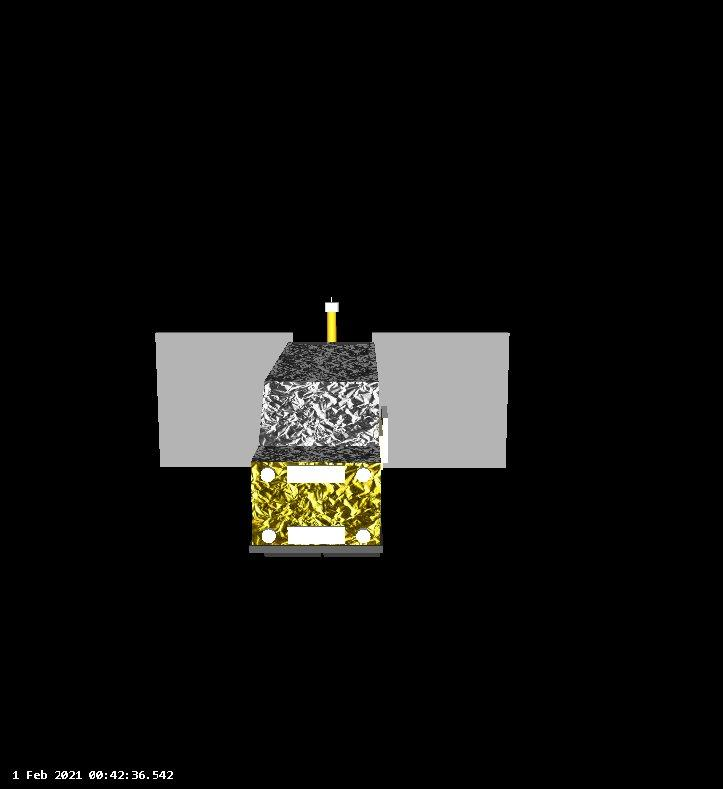antenna: (321, 295, 342, 345)
body: (247, 340, 390, 560)
solar: (369, 330, 512, 471), (153, 331, 295, 470)
